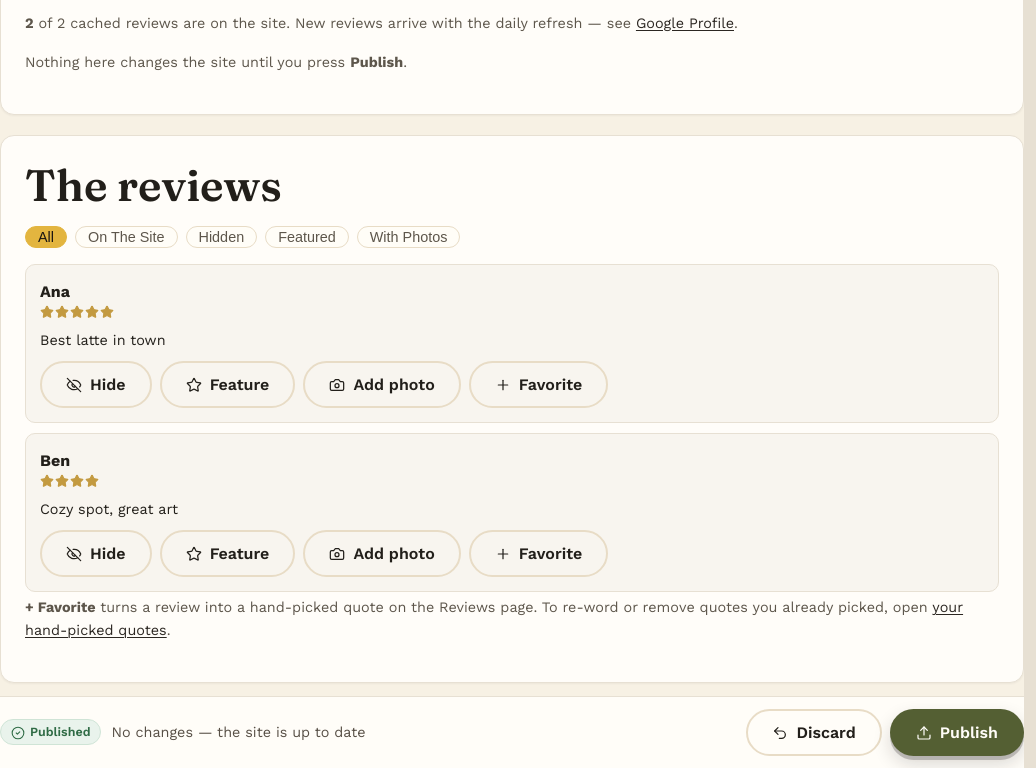
Google reviews › hiding a review is staged
(page scrolled)
Click the button "Hide" below "Ana" at point(96, 385), box top-left (40, 361), bottom-right (152, 408)
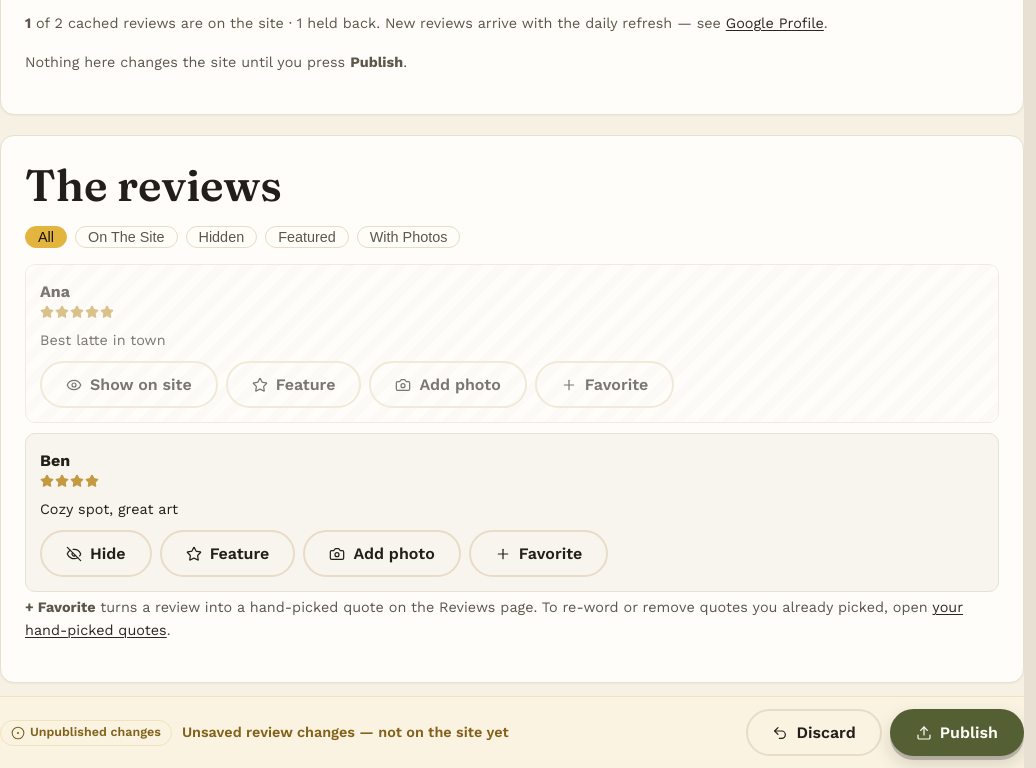
Click the button "Publish" at point(957, 732), box top-left (890, 709), bottom-right (1024, 756)
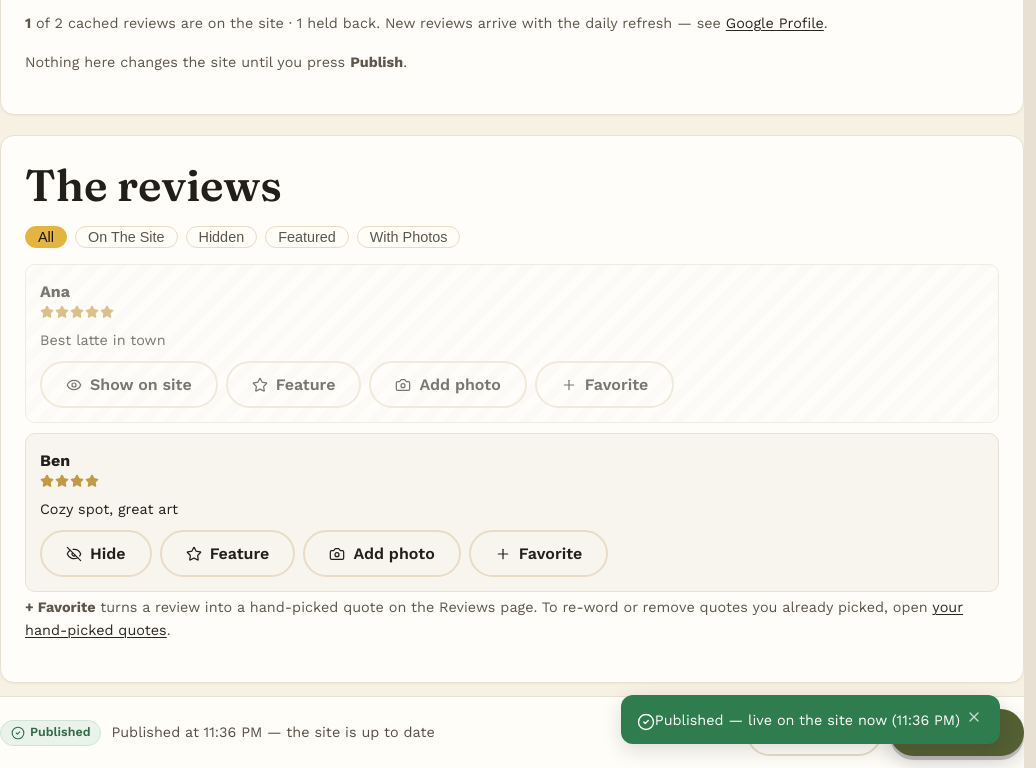
Check: the text "Published — live on the site now (11:36 PM)" is shown, box top-left (655, 712), bottom-right (960, 728)
